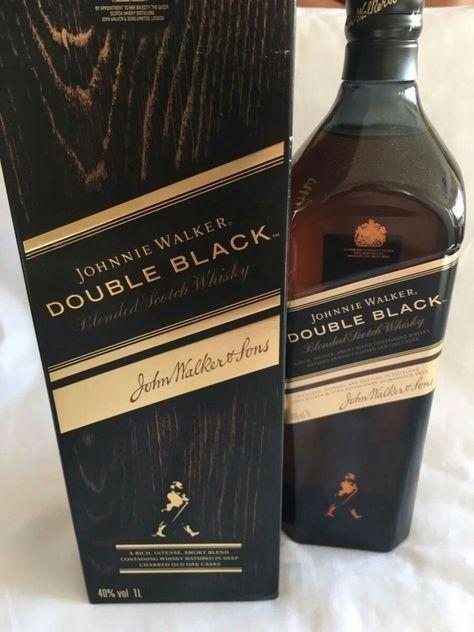bottle-glass: (280, 0, 474, 558)
